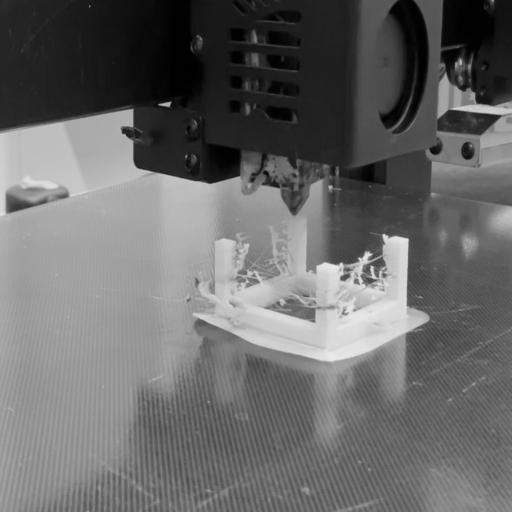spaghetti_and_stringing: (236, 233, 398, 311), (194, 270, 250, 319)
warp: (289, 334, 358, 381), (188, 312, 272, 349)
